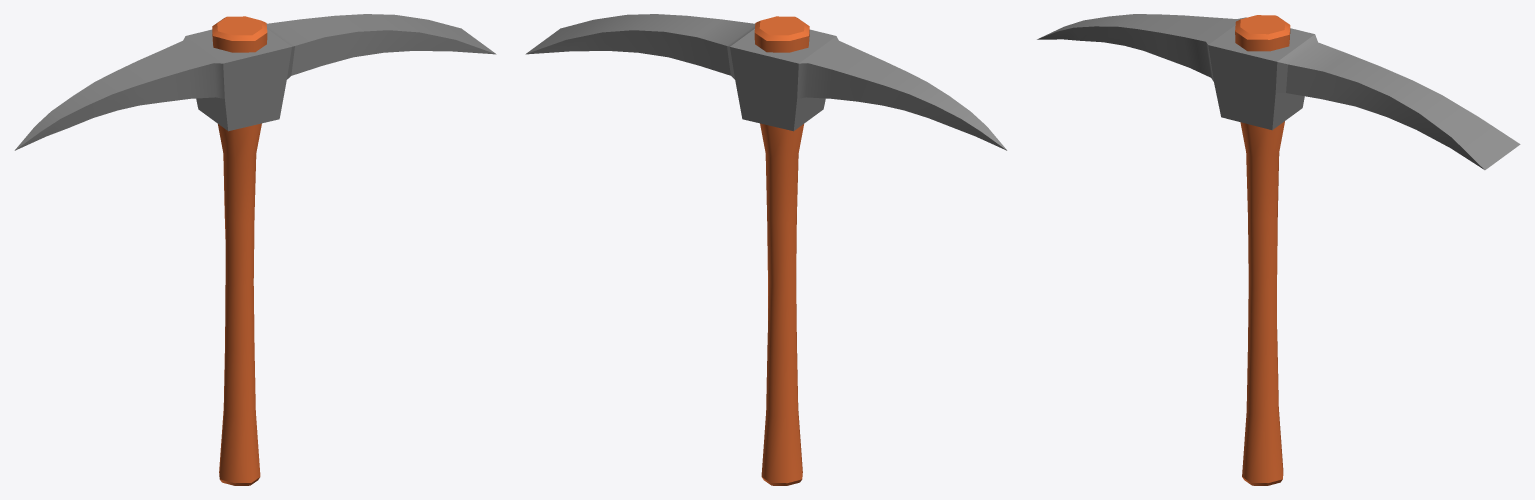
The model's file is PickAxe1.fbx.
The picture shows the model from 3 angles, left to right: view 1: azimuth 30°, elevation 25°; view 2: azimuth 150°, elevation 25°; view 3: azimuth 330°, elevation 25°; orthographic projection.
Parts seen in each view (by area): view 1: Cube.001, Cube; view 2: Cube.001, Cube; view 3: Cube.001, Cube.
Boxes of the visible parts, left/top/right/bottom form: Cube.001: left=14, top=14, right=496, bottom=150; Cube: left=212, top=16, right=267, bottom=485; Cube.001: left=525, top=14, right=1007, bottom=150; Cube: left=754, top=16, right=809, bottom=485; Cube.001: left=1037, top=14, right=1520, bottom=169; Cube: left=1235, top=15, right=1290, bottom=485.
Size of the model in its own units: 3.17 by 2.95 by 0.4458.
